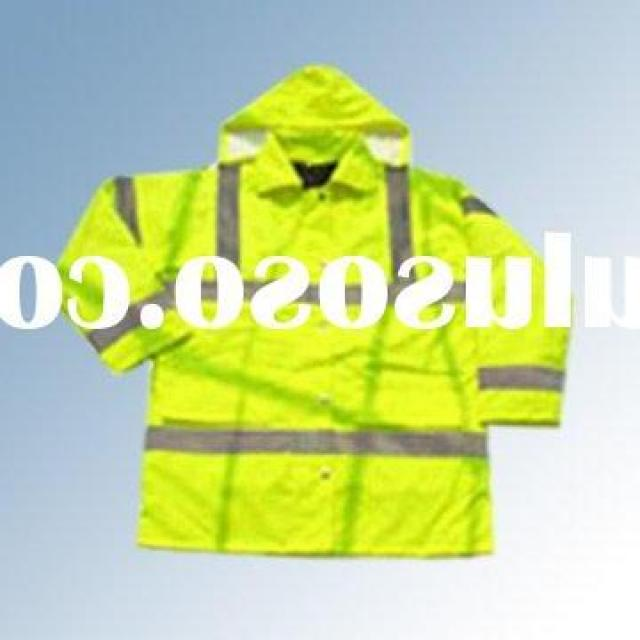Reflective-Jacket: (38, 87, 580, 578)
